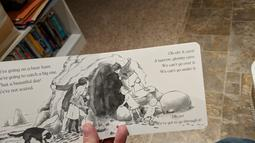text block: (1, 62, 59, 96), (152, 48, 201, 76), (152, 111, 203, 126)
